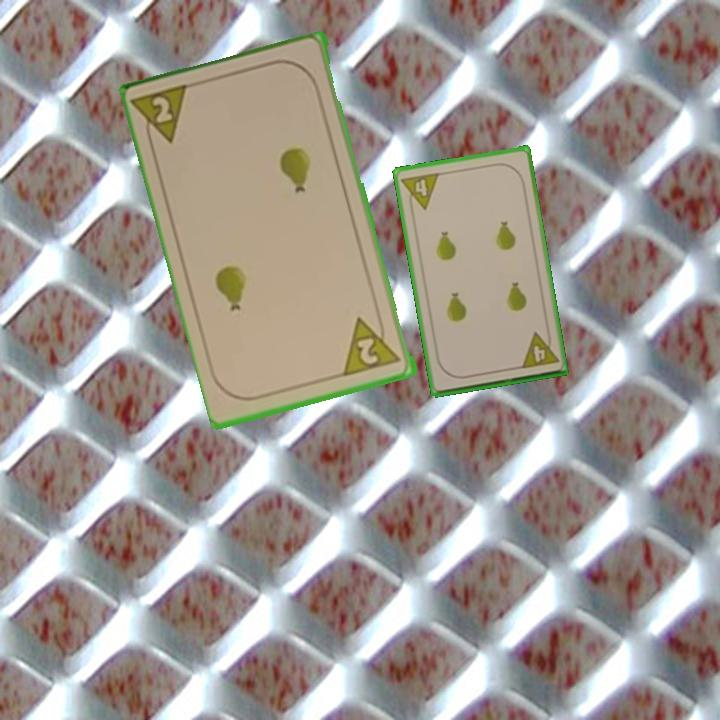2p: (131, 80, 195, 153), (341, 310, 404, 379)
4p: (398, 169, 442, 214), (517, 327, 561, 372)
